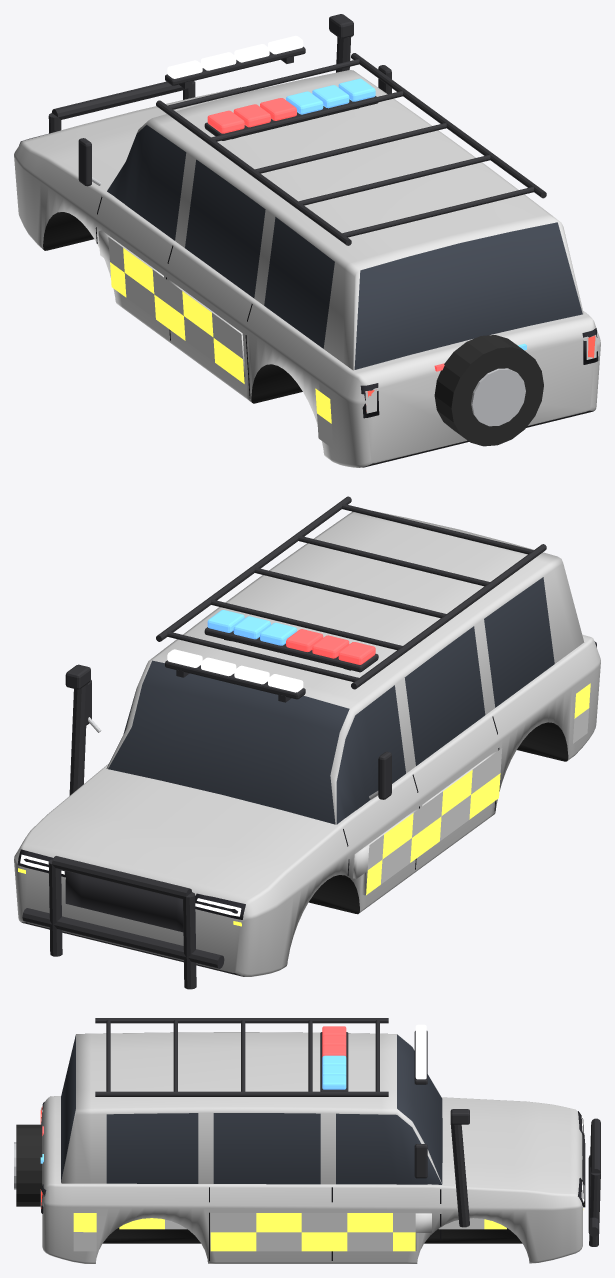
File: police_heavy.glb
3 views of the same model, one above another, from view 1: azimuth 30°, elevation 25°; view 2: azimuth 150°, elevation 25°; view 3: azimuth 270°, elevation 25° (orthographic). The views are drawn at different scales.
Parts seen in each view (by area): view 1: police_heavy; view 2: police_heavy; view 3: police_heavy.
Part boxes in pixels (box(x1,y1,x2,y2)): police_heavy: box(14, 14, 600, 467); police_heavy: box(14, 496, 600, 989); police_heavy: box(14, 1018, 600, 1263).
Size of the model in its own units: 2.52 by 1.74 by 5.4.
